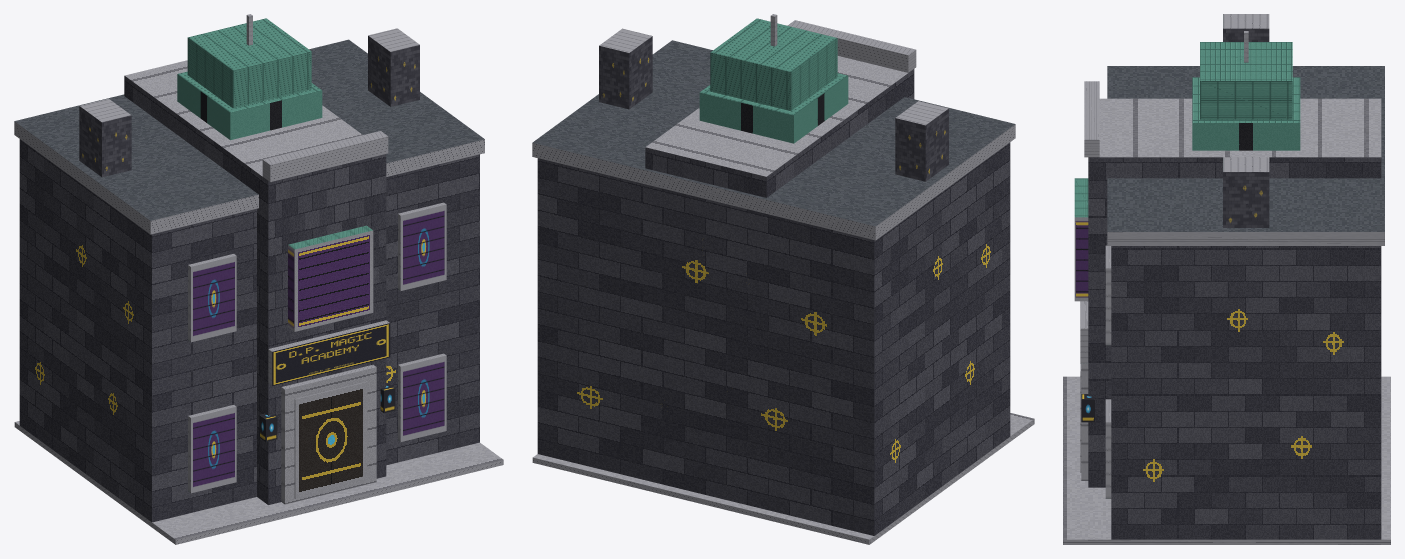
Rendered from building_dp_magic_academy.glb.
The picture shows the model from 3 angles, left to right: view 1: azimuth 30°, elevation 25°; view 2: azimuth 150°, elevation 25°; view 3: azimuth 270°, elevation 25°; orthographic projection. The views are drawn at different scales.
Parts seen in each view (by area): view 1: Building_DP_Magic_Academy; view 2: Building_DP_Magic_Academy; view 3: Building_DP_Magic_Academy.
Part boxes in pixels (bbox=[...]): Building_DP_Magic_Academy: bbox=[14, 14, 503, 544]; Building_DP_Magic_Academy: bbox=[532, 14, 1034, 544]; Building_DP_Magic_Academy: bbox=[1063, 14, 1390, 544].
Bounding box in the file's own units: 10.2 × 12.35 × 8.5.
Materials: 1 (1 with a texture image).
